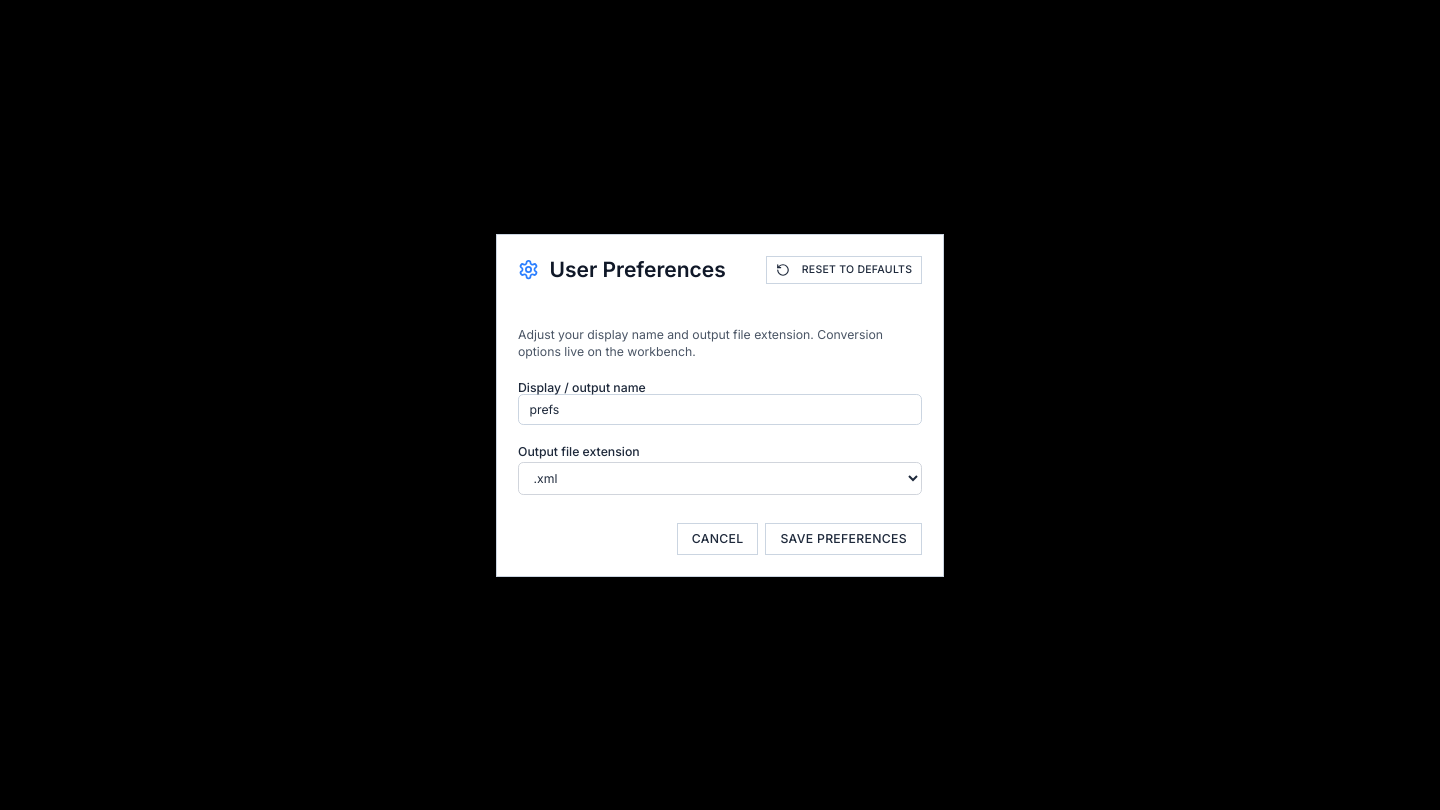
Test case: UserPreferencesDialog (EV-040 slim) › saves updated preferences and notifies parent
Replace the text in the field labelled "Display / output name" with "Workflow User" at {"x": 720, "y": 410}, box [518,394,922,425]
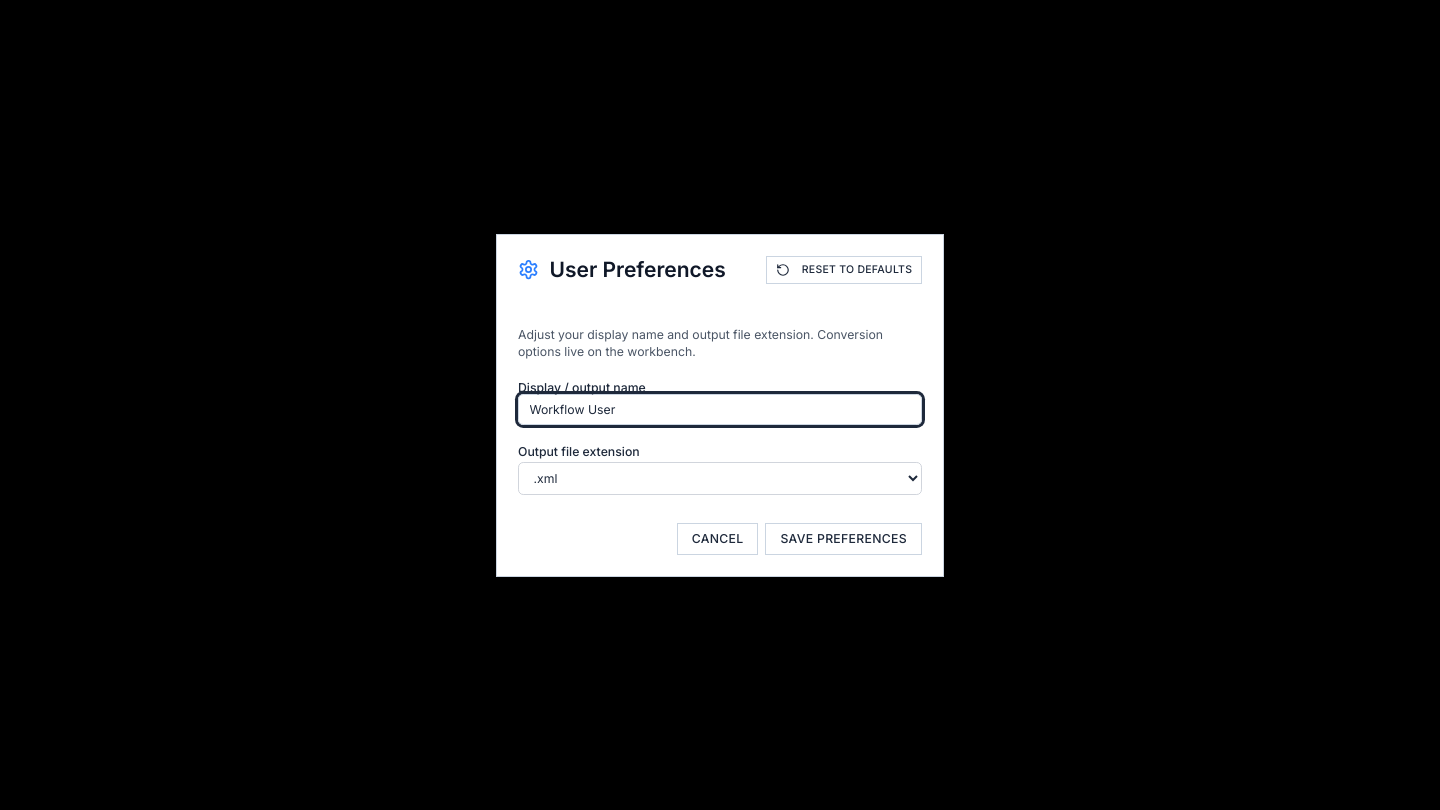
Select ".iwxxm" in the dropdown labelled "Output file extension" at {"x": 720, "y": 478}, box [518,462,922,495]
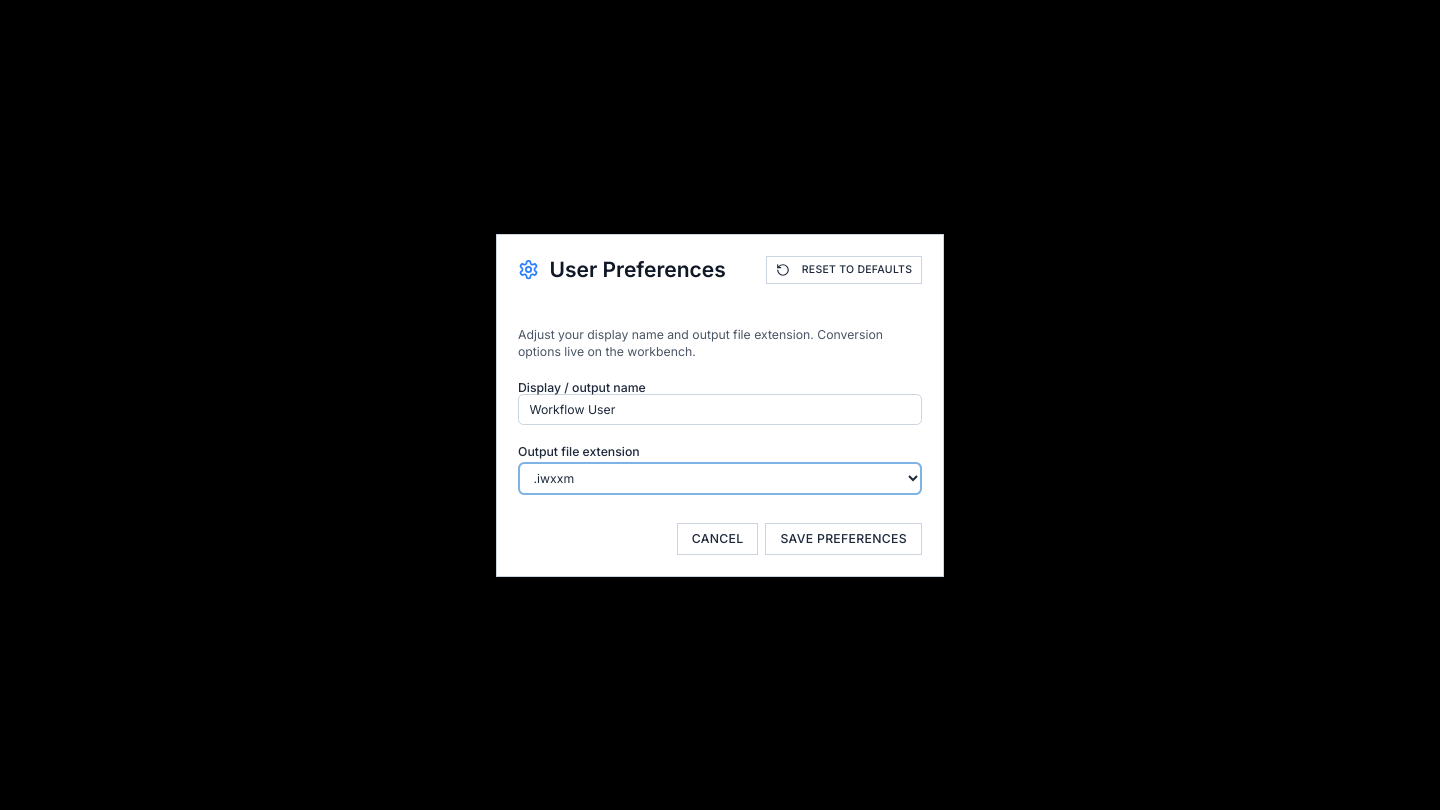
Click the button "Save preferences" at {"x": 844, "y": 539}, box [765,523,922,554]
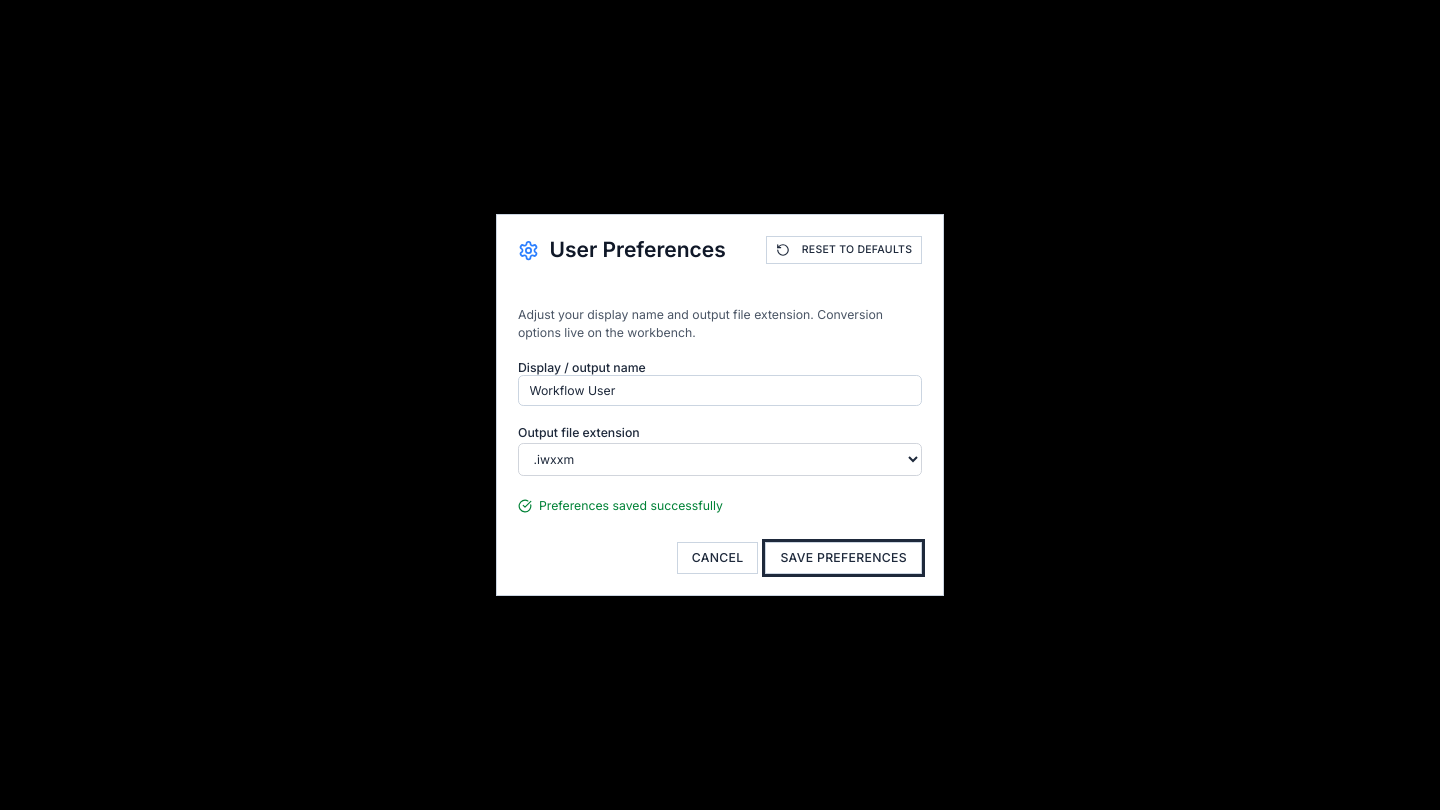
expect the text "Preferences saved successfully" is shown: met, box [518,498,723,513]
